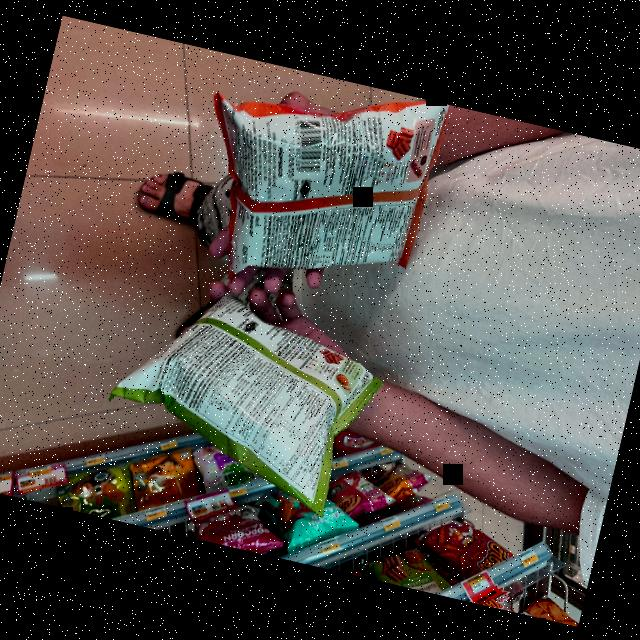snack_bag: (95, 252, 402, 536), (184, 54, 461, 322)
